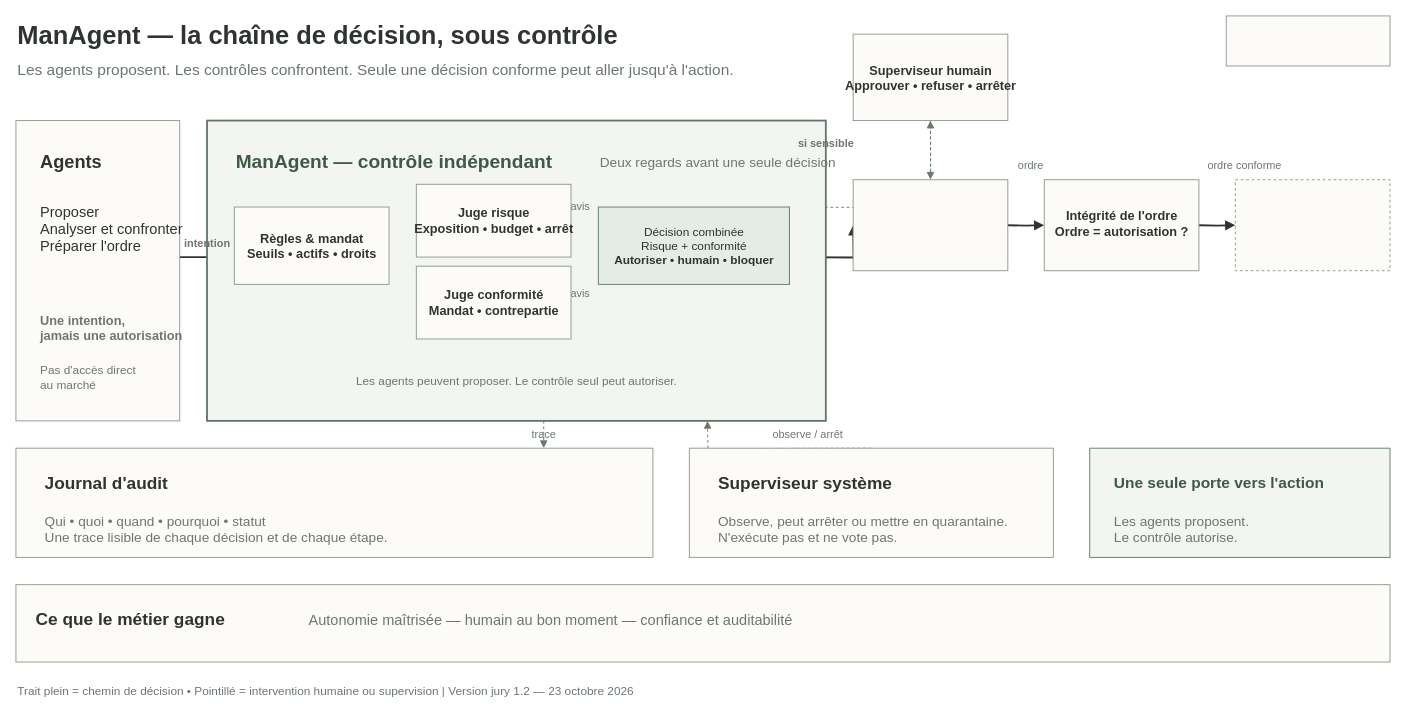
Some shapes in this 1406 by 718 pixel diagram are drawn without their labels. Each missing label, with the centre of its shape:
"Exécuteur Applique, ne décide pas" goes at point 930,225.
"Marché / paiement (simulé)" goes at point 1312,225.
"VUE MÉTIER JURY FINAXYS" goes at point 1307,40.
